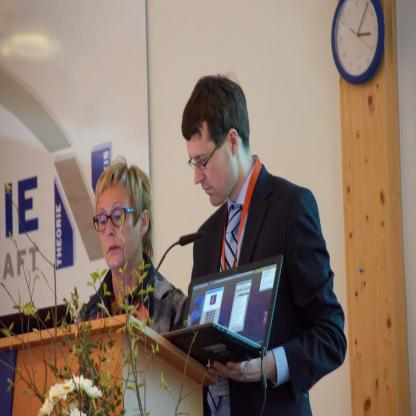board: (162, 253, 284, 370)
